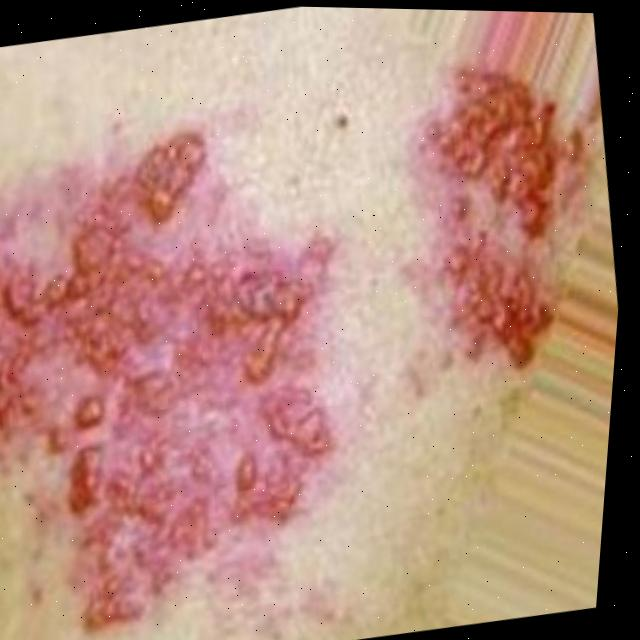Shingles: (0, 108, 372, 624), (387, 45, 612, 371)
